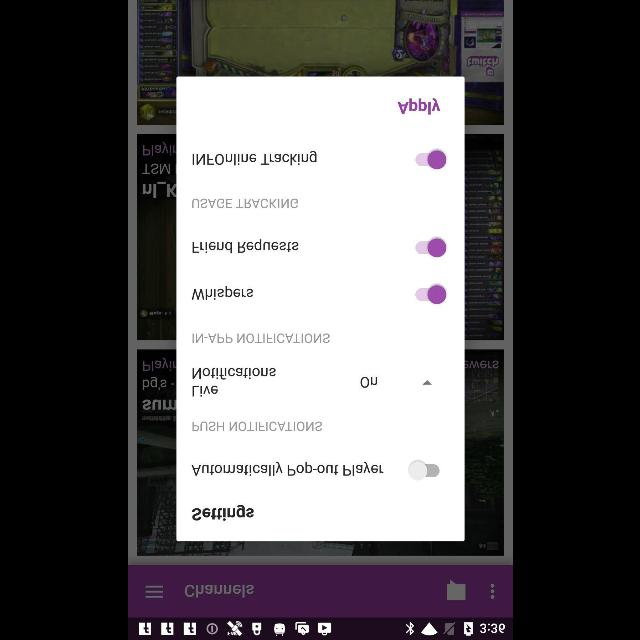icon: (446, 580, 464, 600), (144, 584, 162, 598), (489, 583, 493, 599), (421, 379, 431, 385)
panel: (176, 76, 464, 542)
switch: (414, 150, 446, 170), (414, 238, 446, 258), (414, 284, 446, 304), (407, 460, 439, 480)
text: (191, 462, 383, 476), (191, 368, 275, 397), (192, 150, 316, 166), (192, 238, 298, 254), (192, 420, 322, 432), (191, 334, 329, 344), (191, 198, 297, 210), (190, 504, 253, 520), (184, 584, 253, 598), (191, 286, 253, 300), (396, 97, 439, 115), (359, 377, 377, 388)
uppertaskbar: (128, 617, 512, 639)
